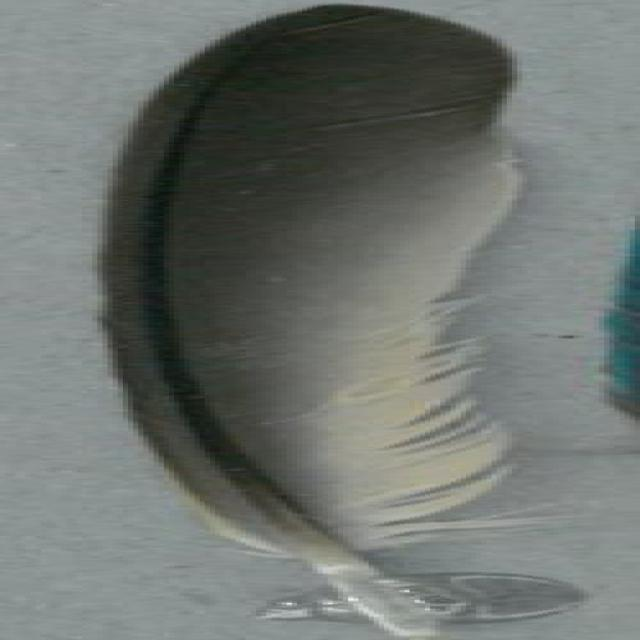feather: (77, 2, 546, 637)
